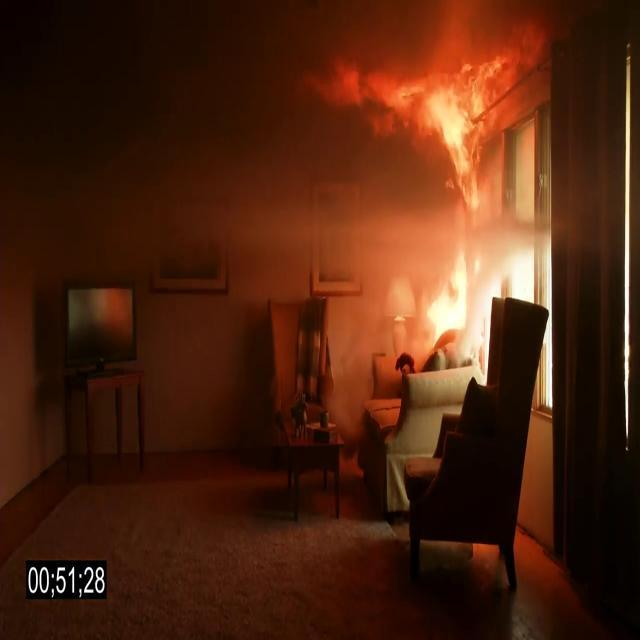Fire: (332, 33, 516, 188), (390, 249, 482, 362), (444, 250, 504, 369)
Smoke: (0, 5, 302, 192)
